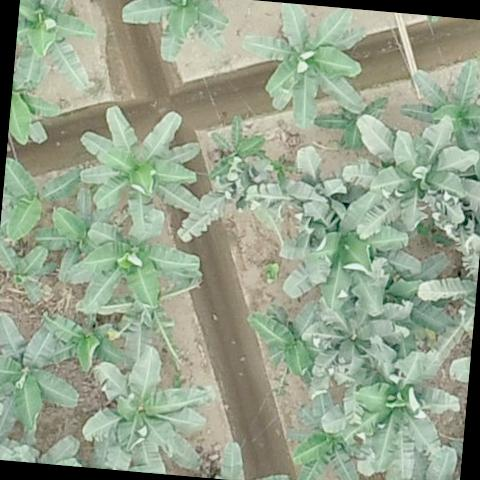Banana-plant: (334, 101, 480, 256), (268, 184, 418, 314), (233, 0, 374, 137), (80, 343, 222, 478), (73, 104, 210, 240), (341, 343, 465, 480), (291, 281, 410, 402), (176, 154, 294, 260), (0, 311, 92, 446), (12, 0, 105, 101), (286, 389, 383, 480), (403, 50, 480, 161), (0, 152, 88, 249), (117, 0, 234, 69), (240, 304, 330, 388), (34, 309, 132, 375), (36, 205, 112, 282), (315, 85, 394, 157), (203, 114, 276, 188), (0, 238, 63, 309)
